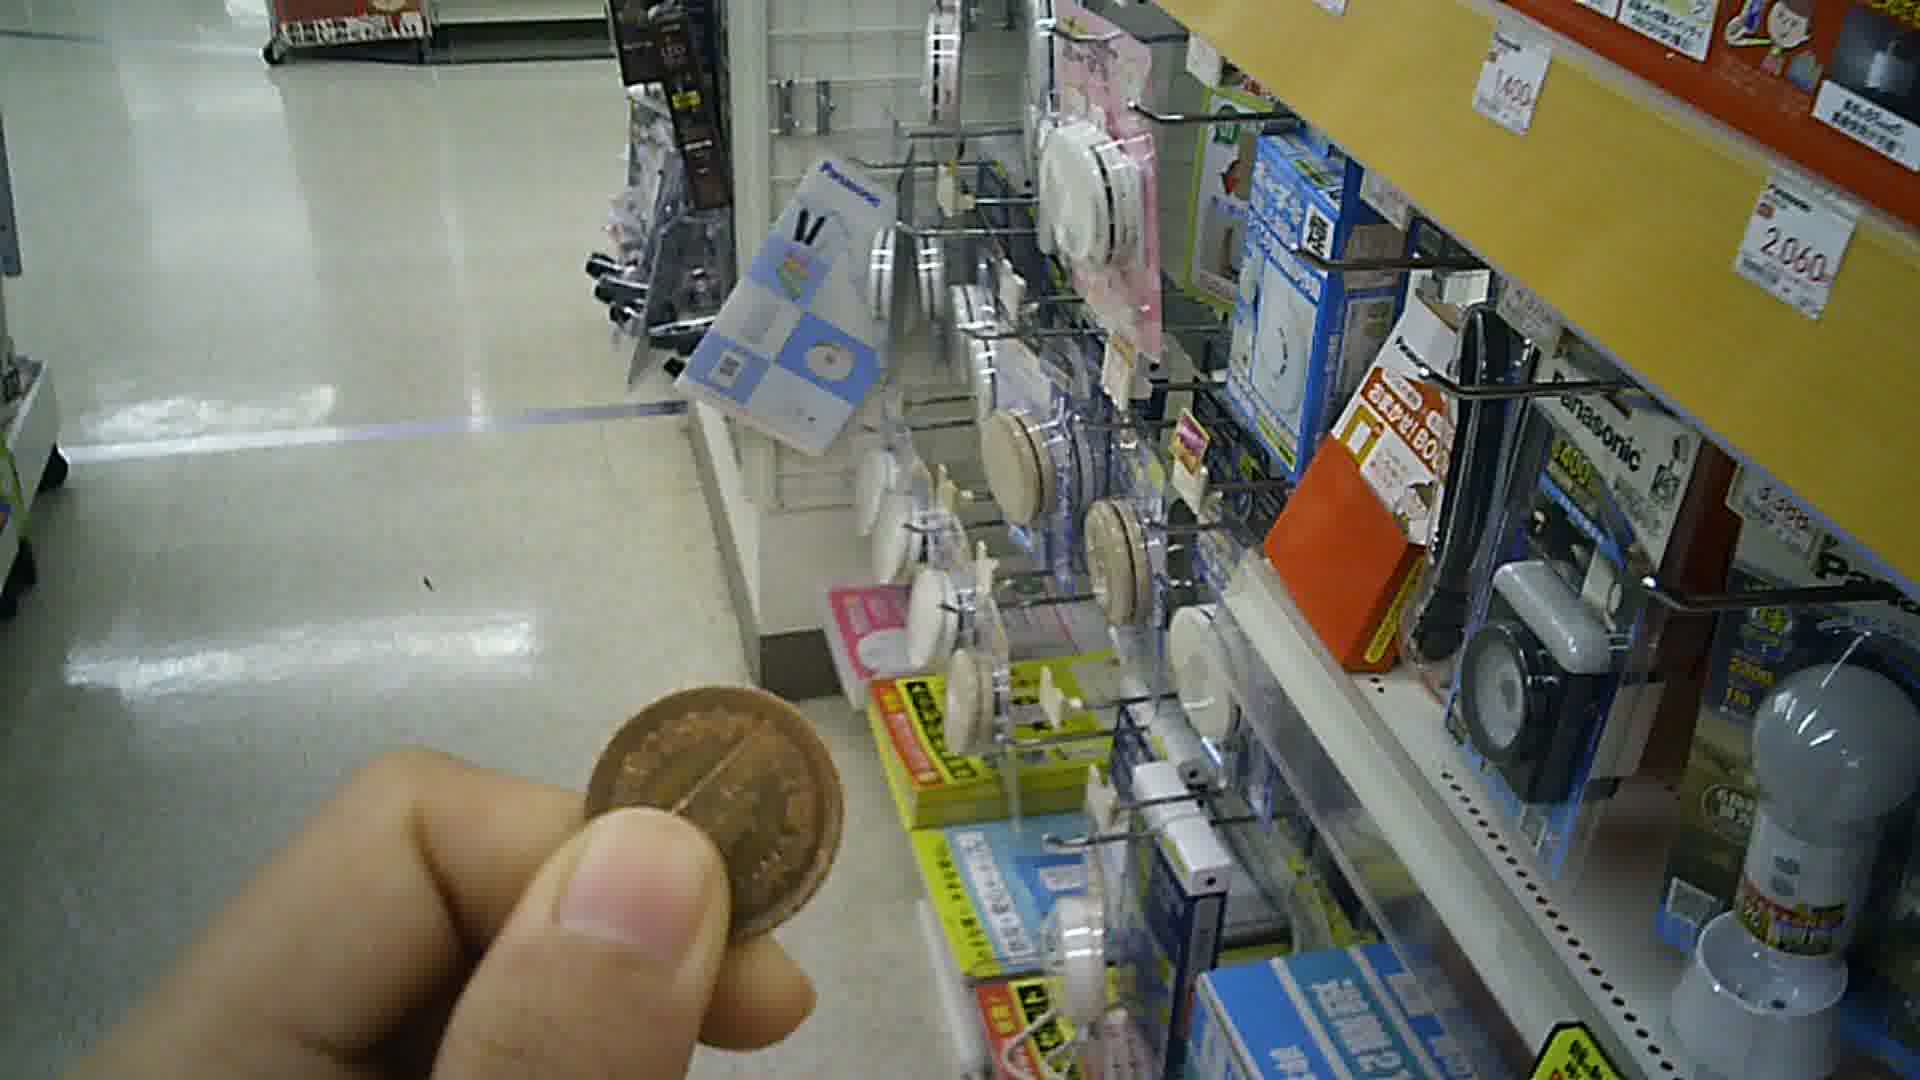10 Yen: (570, 684, 851, 944)
